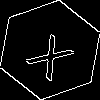X: (25, 25, 82, 82)
